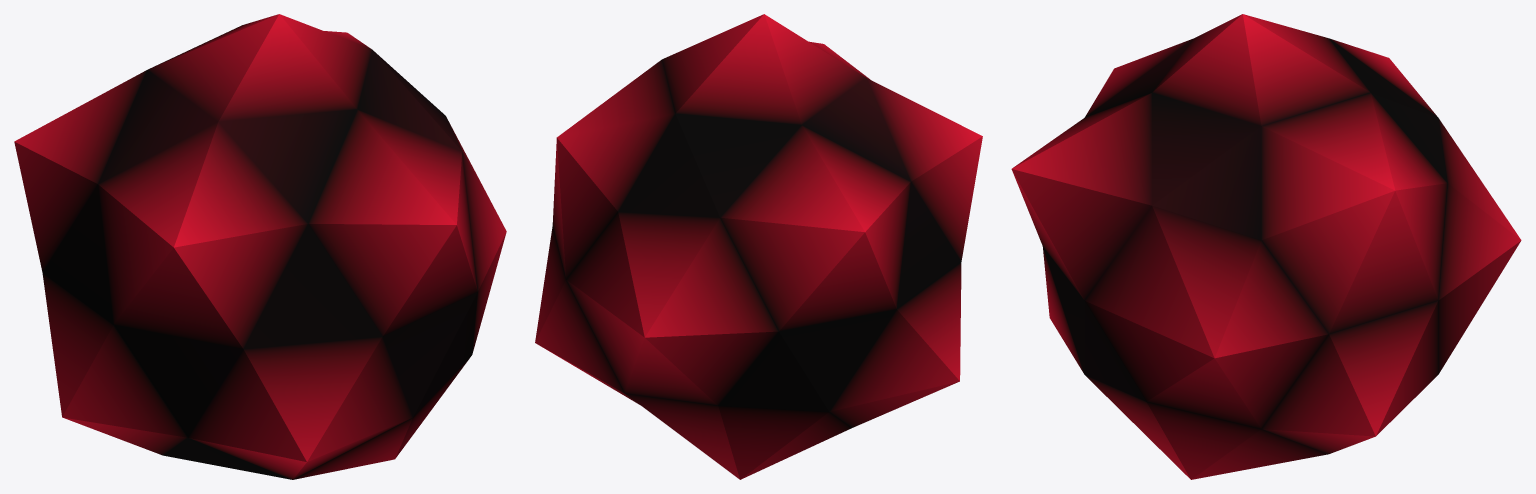
Rendered from enemy.fbx.
3 renders of one model, left to right at view 1: azimuth 30°, elevation 25°; view 2: azimuth 150°, elevation 25°; view 3: azimuth 270°, elevation 25°, orthographic. The views are drawn at different scales.
Parts seen in each view (by area): view 1: Icosphere; view 2: Icosphere; view 3: Icosphere.
Boxes of the visible parts, left/top/right/bottom form: Icosphere: left=14, top=14, right=506, bottom=479; Icosphere: left=535, top=14, right=982, bottom=479; Icosphere: left=1011, top=14, right=1521, bottom=479.
Size of the model in its own units: 215 by 218 by 233.
